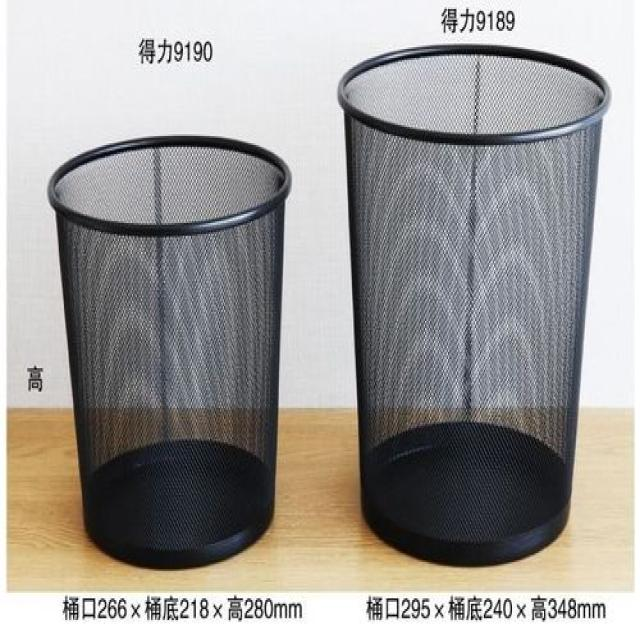dustbin: (336, 36, 615, 571), (45, 125, 296, 574)
